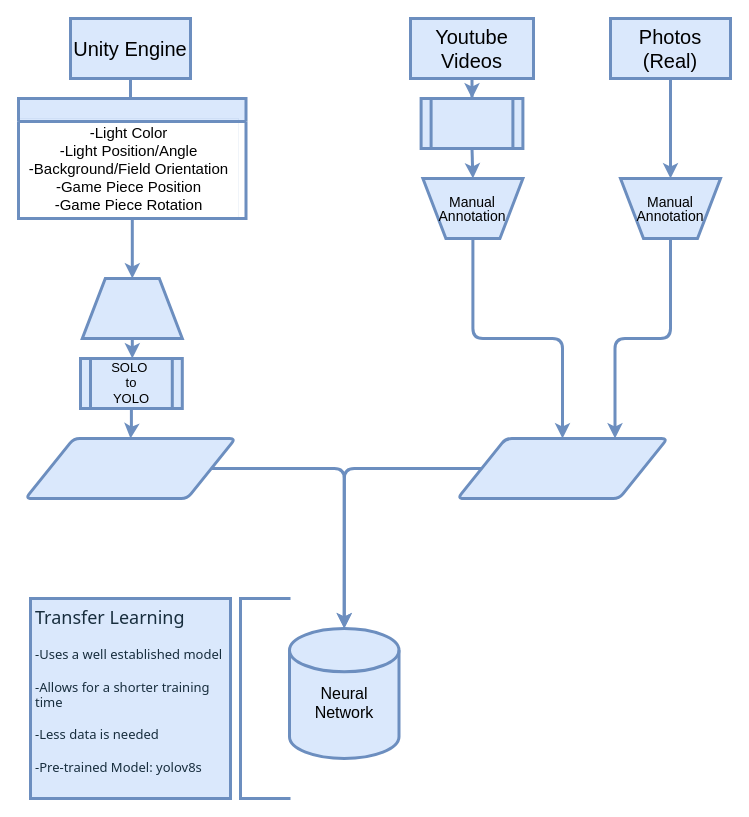
This 749x817 diagram has some shape labels left out. The box of each missing label's shape, as (x1, y1, x2, y2) in pixels:
Auto Annotation: (80, 276, 183, 340)
Converted to Frames: (419, 96, 524, 150)
Randomizer: (16, 96, 247, 220)
Real Data: (456, 436, 668, 500)
Synthetic Data: (24, 436, 236, 500)
